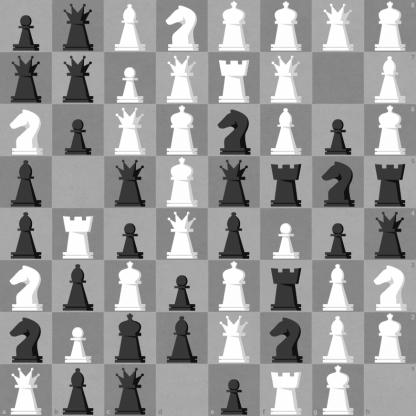B: (364, 52, 416, 104), (105, 1, 156, 52), (261, 105, 312, 156), (313, 261, 364, 312), (313, 313, 364, 364)
K: (312, 364, 364, 416), (364, 0, 416, 52), (364, 104, 416, 156), (364, 312, 416, 364), (105, 261, 156, 312), (157, 105, 208, 156), (157, 157, 208, 208), (209, 1, 260, 52), (209, 261, 260, 312), (261, 1, 312, 52)
N: (364, 260, 416, 312), (1, 105, 52, 156), (1, 261, 52, 312), (157, 1, 208, 52)
P: (53, 313, 104, 364), (105, 53, 156, 104), (261, 209, 312, 260)
Q: (0, 364, 52, 416), (105, 105, 156, 156), (157, 53, 208, 104), (157, 209, 208, 260), (209, 313, 260, 364), (261, 53, 312, 104), (313, 1, 364, 52)
R: (260, 364, 312, 416), (53, 209, 104, 260), (209, 53, 260, 104)
b: (52, 364, 104, 416), (1, 157, 52, 208), (1, 209, 52, 260), (53, 261, 104, 312), (157, 313, 208, 364), (209, 209, 260, 260)
board: (0, 0, 415, 415)
k: (105, 313, 156, 364)
n: (1, 313, 52, 364), (209, 105, 260, 156), (261, 313, 312, 364), (313, 157, 364, 208)
p: (209, 364, 260, 416), (1, 1, 52, 52), (53, 105, 104, 156), (105, 209, 156, 260), (157, 261, 208, 312), (313, 105, 364, 156), (313, 209, 364, 260)
q: (104, 364, 156, 416), (364, 209, 416, 260), (1, 53, 52, 104), (53, 1, 104, 52), (53, 53, 104, 104), (105, 157, 156, 208), (209, 157, 260, 208)
r: (364, 156, 416, 209), (261, 157, 312, 208), (261, 261, 312, 312)
